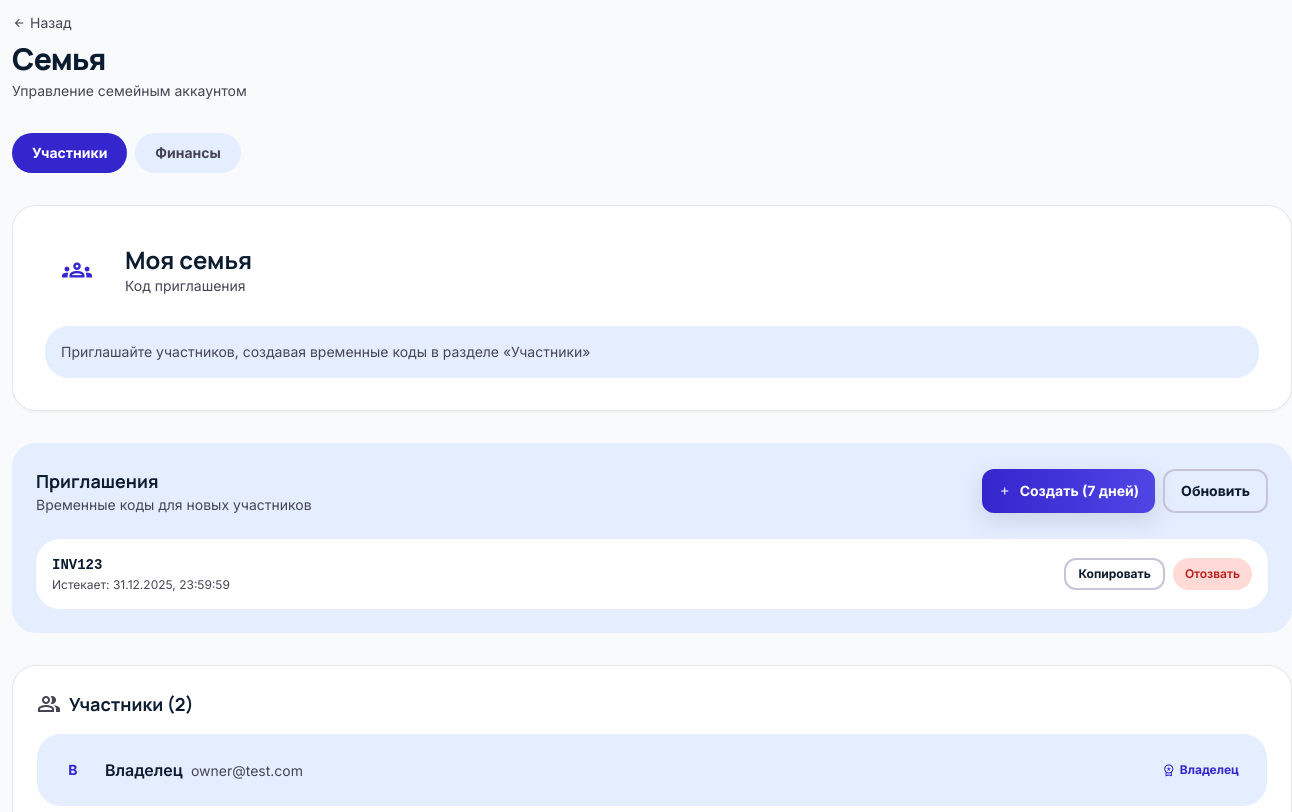
Test case: Family › shows finance tab with member stats
expect the heading "Моя семья" is shown: met, box [125, 244, 252, 276]
Click the button "Финансы". click: (188, 153)
box: [135, 133, 241, 173]
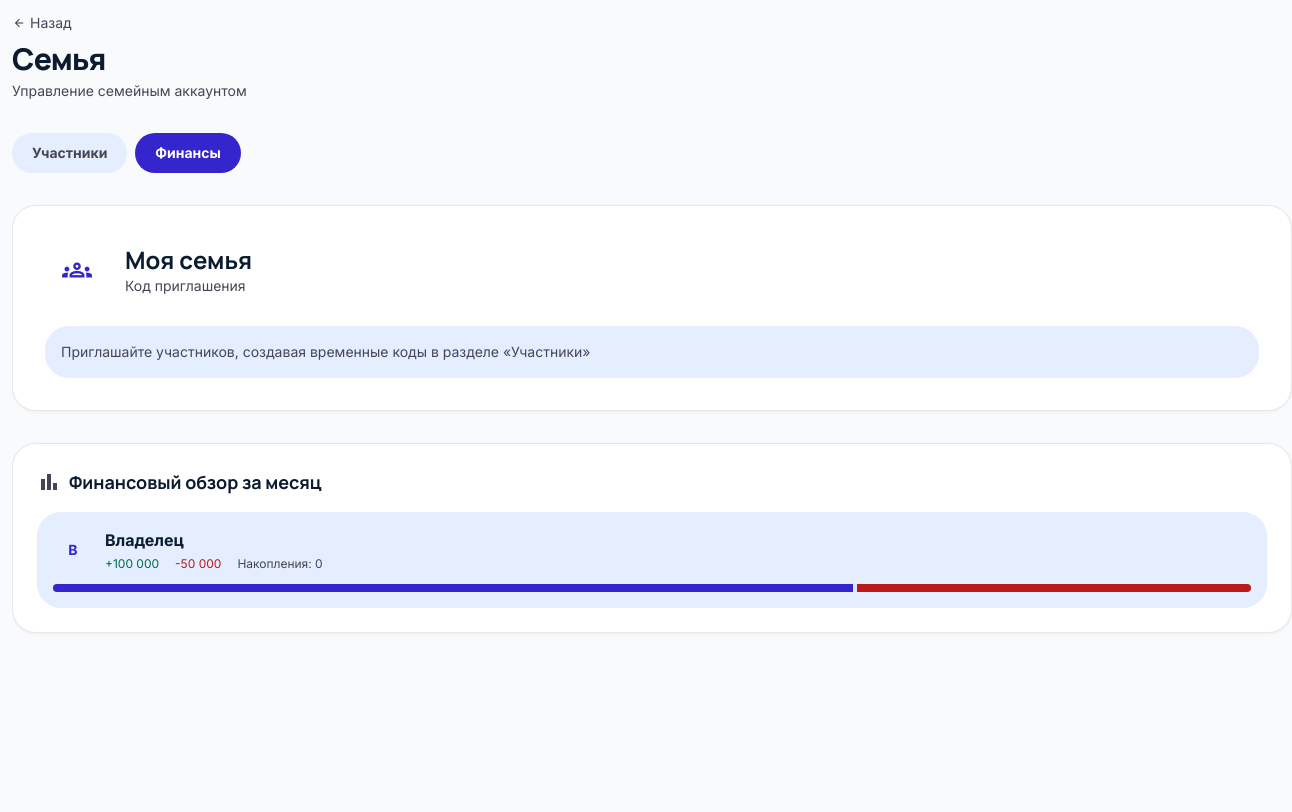
expect the heading "Финансовый обзор за месяц" is shown: met, box [37, 468, 322, 496]
